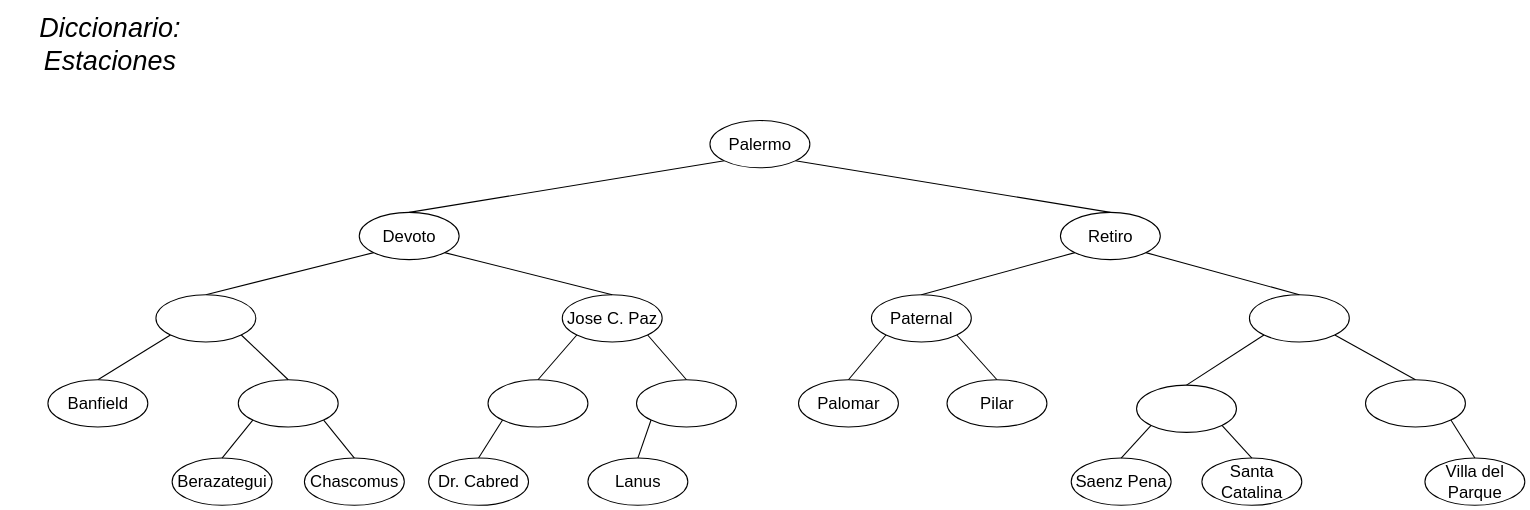
Image size: 1530x510. Some labels were removed from this diagram. The centre of each missing label's shape, as x and y in pixels:
"Bella Vista" goes at [205,318].
"Caseros" goes at [288,403].
"Hurlingham" goes at [537,403].
"Manzanares" goes at [686,403].
"San Miguel" goes at [1186,408].
"Villa Astolfi" goes at [1299,318].
"Villa Crespo" goes at [1415,403].
